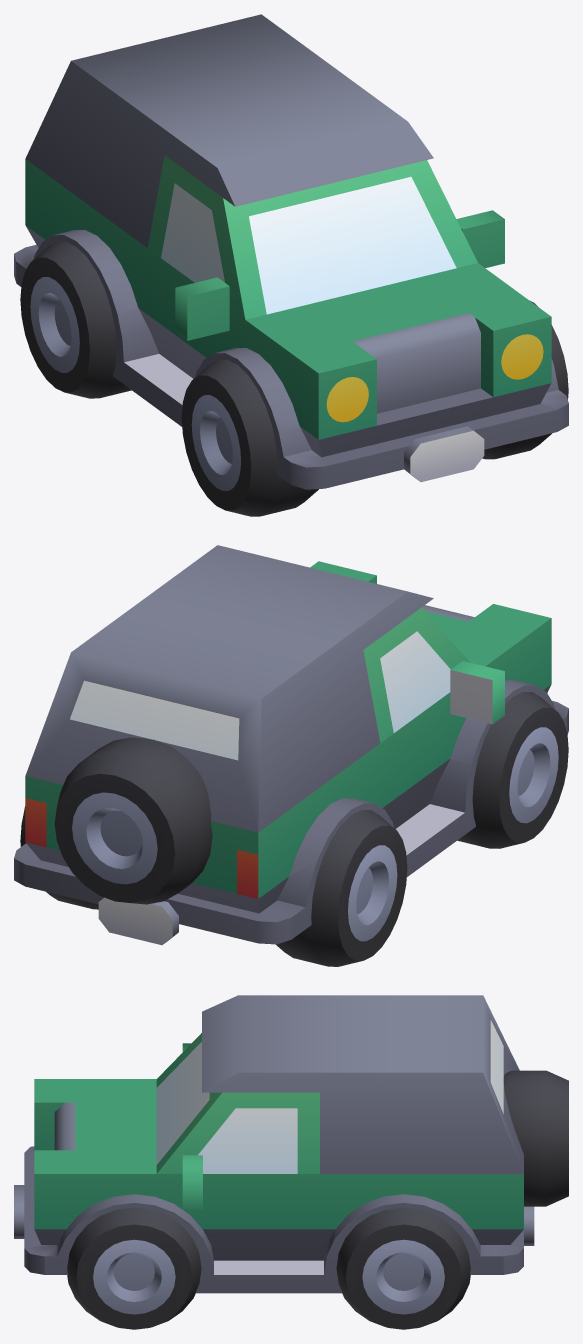
Rendered from car_suv.glb.
The picture shows the model from 3 angles, top to bottom: view 1: azimuth 30°, elevation 25°; view 2: azimuth 150°, elevation 25°; view 3: azimuth 270°, elevation 25°; orthographic projection. The views are drawn at different scales.
Parts seen in each view (by area): view 1: body, wheel_fl_mesh, wheel_rl_mesh, wheel_fr_mesh; view 2: body, wheel-back, wheel_rl_mesh, wheel_fl_mesh; view 3: body, wheel_rr_mesh, wheel_fr_mesh, wheel-back.
Boxes of the visible parts, box(x1,y1,x2,y2) form: body: box(14, 14, 568, 489); wheel_fl_mesh: box(181, 359, 318, 516); wheel_rl_mesh: box(20, 241, 131, 398); wheel_fr_mesh: box(482, 300, 568, 459); body: box(14, 545, 568, 945); wheel-back: box(54, 737, 212, 904); wheel_rl_mesh: box(275, 810, 407, 966); wheel_fl_mesh: box(457, 692, 568, 848); body: box(14, 995, 534, 1293); wheel_rr_mesh: box(336, 1207, 470, 1329); wheel_fr_mesh: box(67, 1207, 201, 1329); wheel-back: box(503, 1070, 568, 1206).
Size of the model in its own units: 1.77 by 1.53 by 3.21.
Materials: 1 (1 with a texture image).
